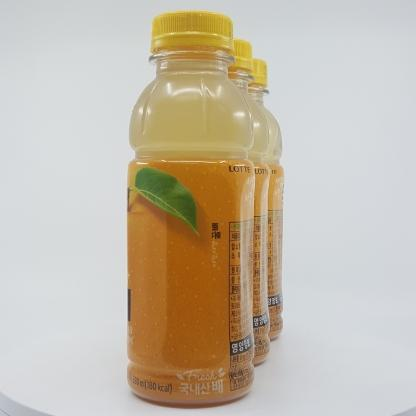--------380ML: (126, 10, 255, 409)
